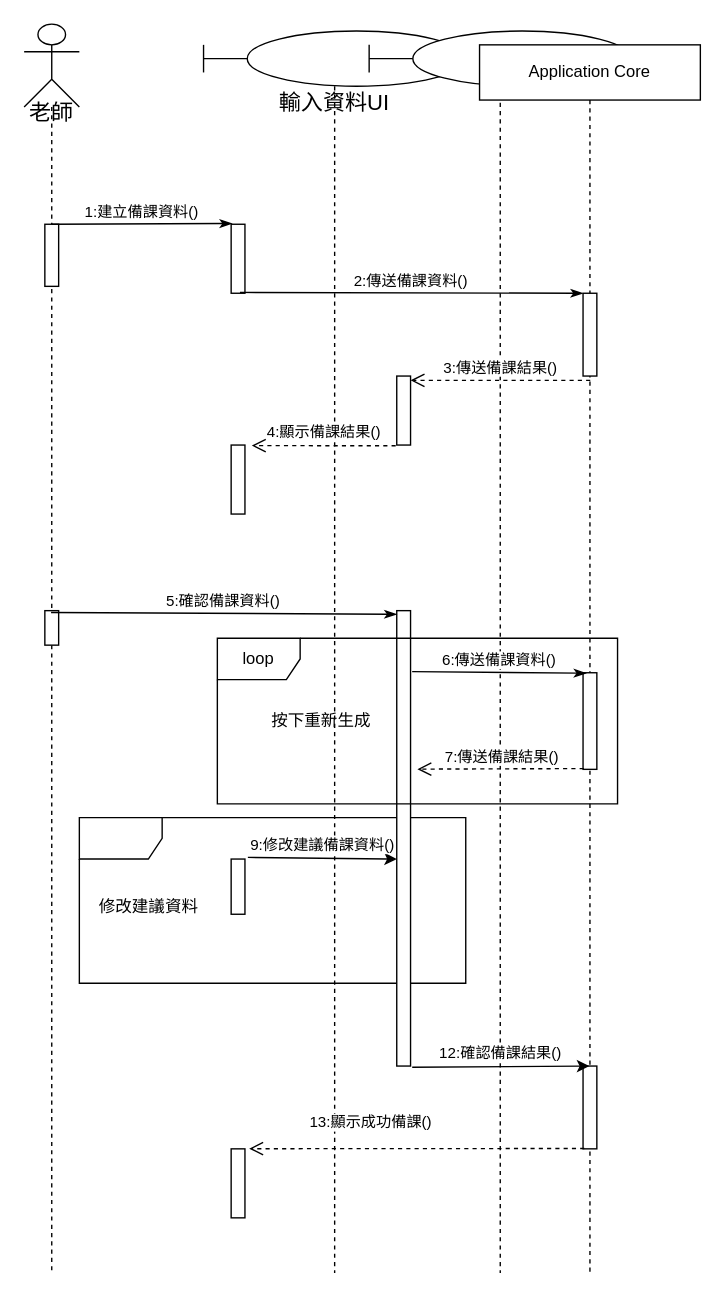
Image size: 725x1297. Some labels were removed from this diagram. The shapes that lost their labels are listed below. From the top down, each one's box as (x1, y1, x2, y2) in pixels, then its label:
(368, 30, 631, 1273): 確認結果UI
(78, 816, 466, 983): opt
